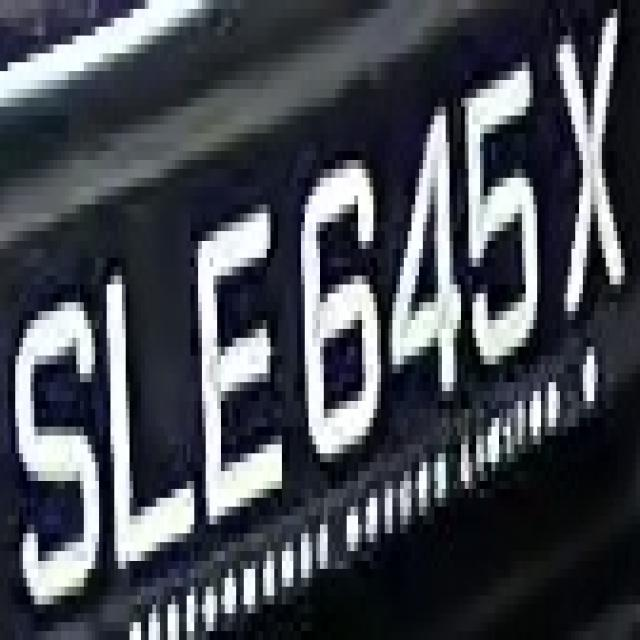4: (381, 107, 469, 436)
5: (453, 71, 541, 382)
6: (290, 142, 396, 471)
E: (186, 187, 290, 551)
L: (91, 240, 202, 578)
S: (3, 267, 106, 631)
X: (541, 9, 632, 320)
